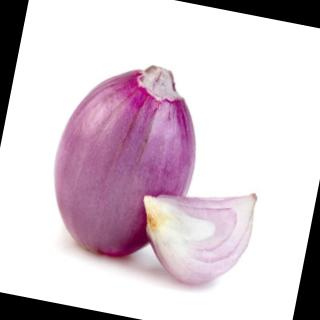Bawang Merah: (36, 45, 215, 273)
